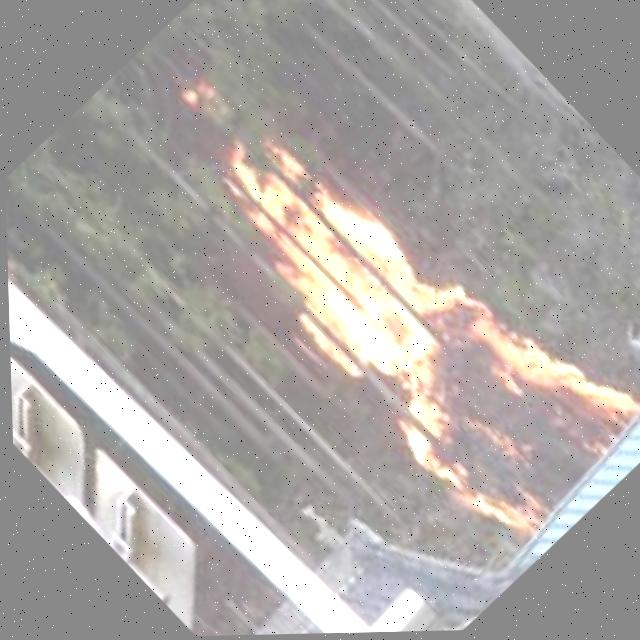Fire: (170, 64, 640, 569)
